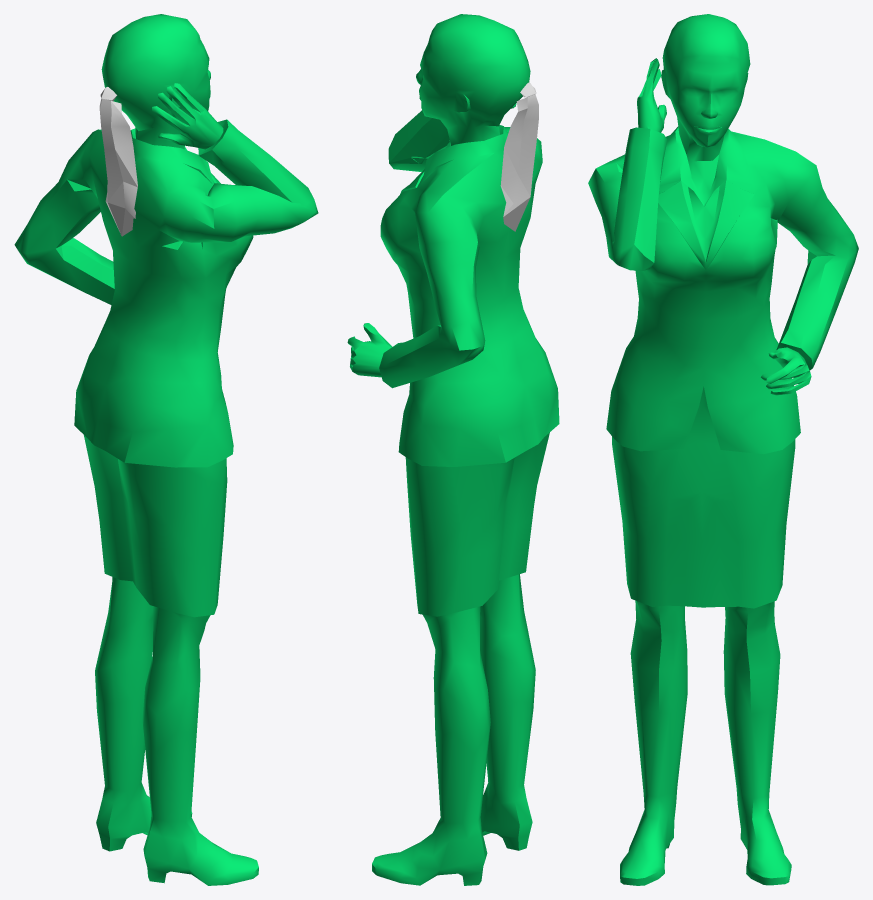
The model's file is SM_Woman_Skirt_Stand_Phone.glb.
3 views of the same model, side by side, from view 1: azimuth 30°, elevation 25°; view 2: azimuth 150°, elevation 25°; view 3: azimuth 270°, elevation 25° (orthographic).
Visible parts, largest first — view 1: SM_Woman_Skirt_Stand_Phone; view 2: SM_Woman_Skirt_Stand_Phone; view 3: SM_Woman_Skirt_Stand_Phone.
Part boxes in pixels (bbox=[...]): SM_Woman_Skirt_Stand_Phone: bbox=[14, 14, 318, 885]; SM_Woman_Skirt_Stand_Phone: bbox=[347, 14, 559, 885]; SM_Woman_Skirt_Stand_Phone: bbox=[588, 14, 858, 885].
Bounding box in the file's own units: 0.4069 × 1.71 × 0.5029.
